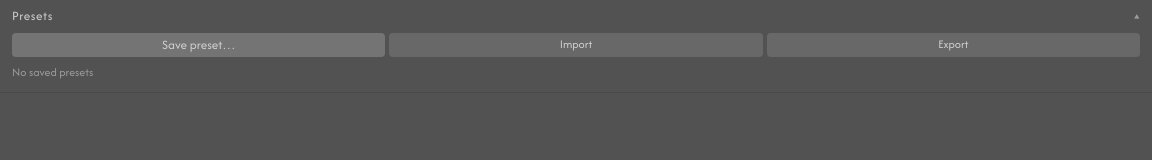
PresetsPanel import feedback › says so when a .json file isn't a Safelight preset
Click the button "Import": [576, 45] box [389,32,763,57]
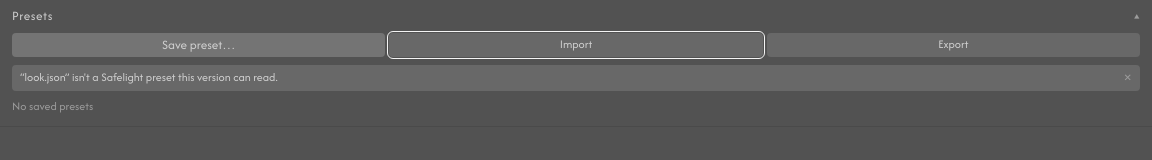
Check: the text "“look.json” isn't a Safelight preset this version can read." is shown, box [20,69,278,85]
